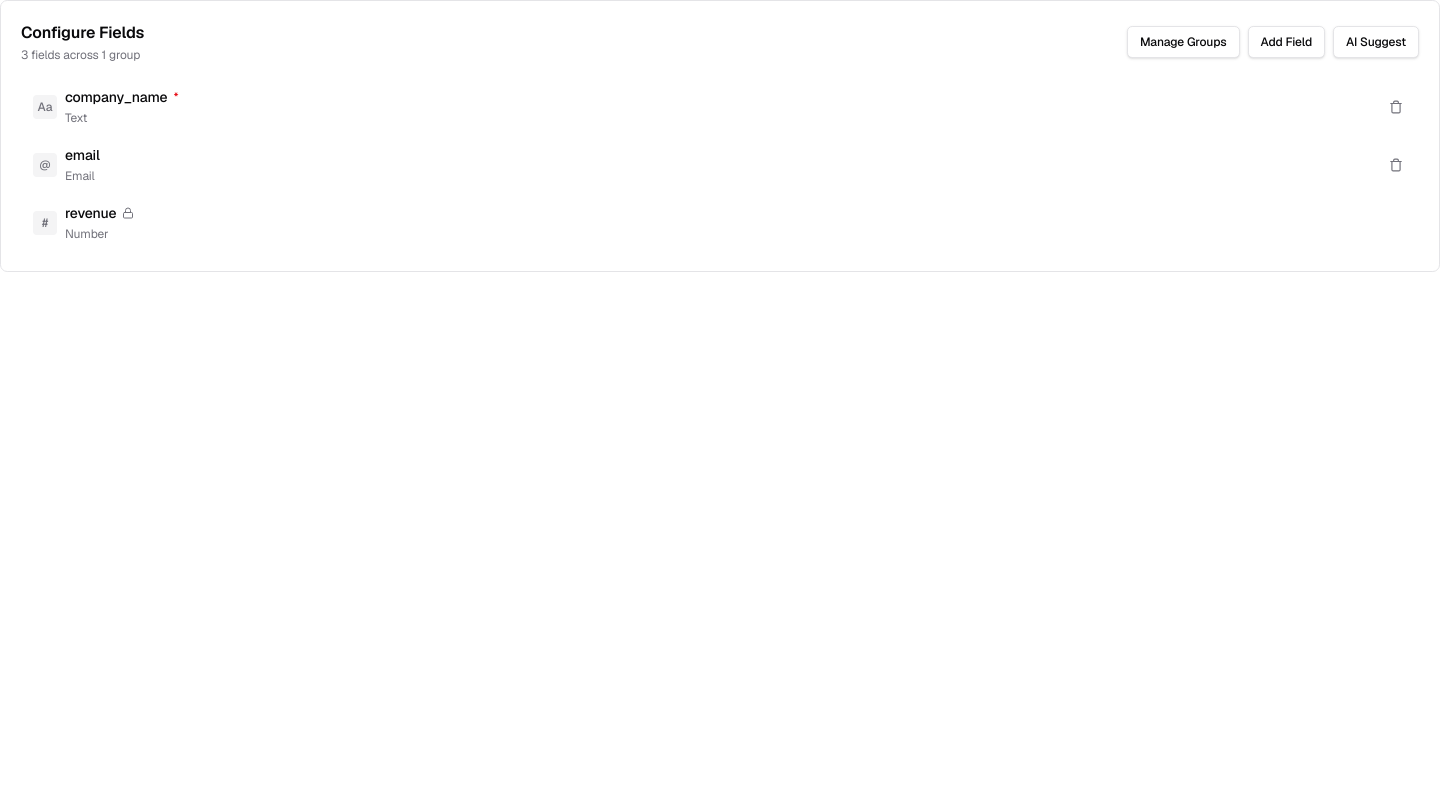
it: InlineFieldManager › confirmation dialog › confirmation can be cancelled
The image size is (1440, 810).
Click the button with aria-label "Add a new field".
click(1286, 42)  # box x1=1248 y1=26 x2=1325 y2=58
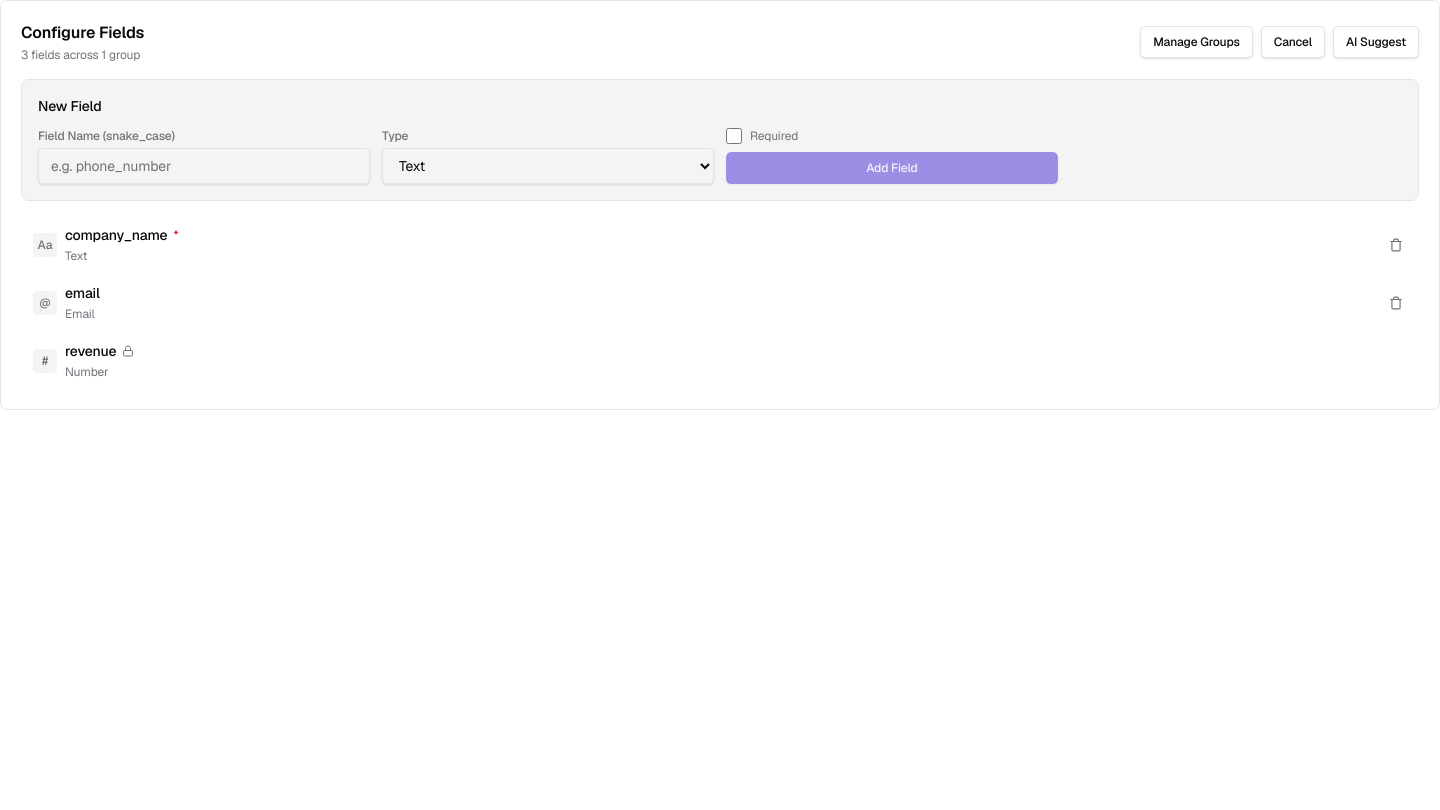
Type "new_field" into the field labelled "Field Name (snake_case)".
click(204, 166); type("new_field")  # box x1=38 y1=148 x2=370 y2=184
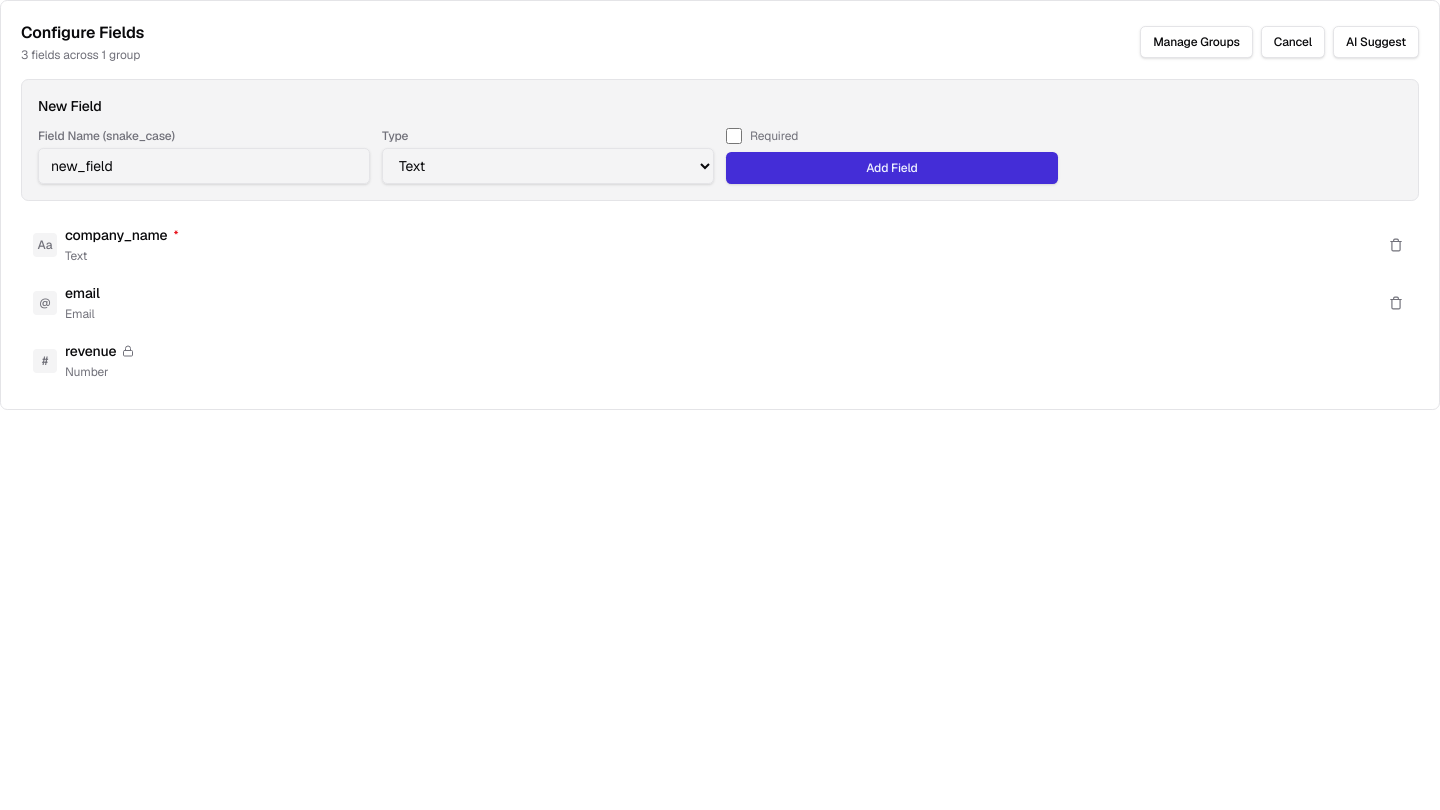
Click the button "Add Field".
click(892, 168)  # box x1=726 y1=152 x2=1058 y2=184
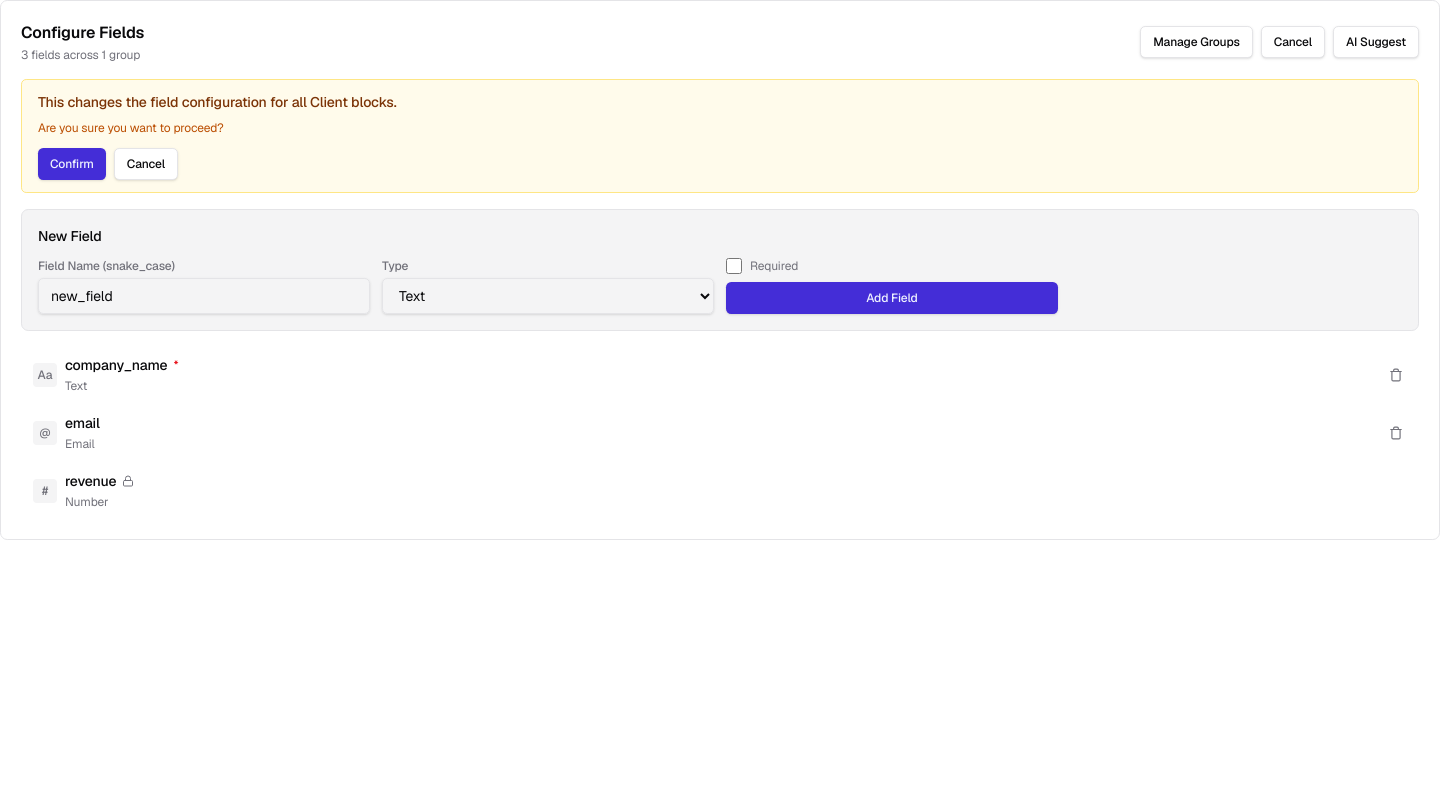
# Cancel confirmation
Click the button "Cancel" below "Are you sure you want to proceed?".
click(146, 164)  # box x1=114 y1=148 x2=178 y2=180
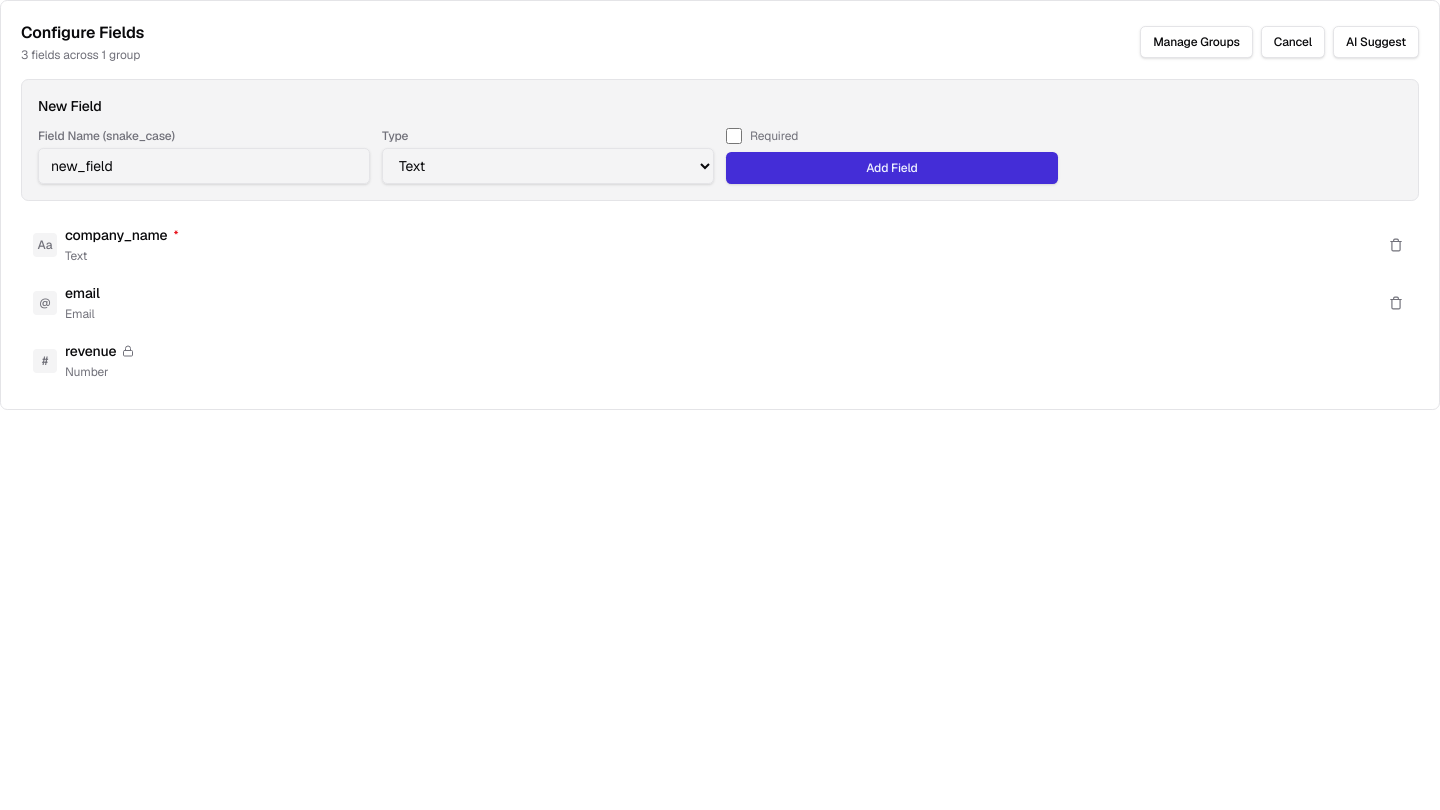
Check: the text "changes the field configuration" is gone
